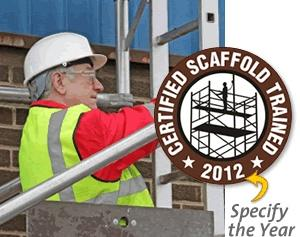helmet: (23, 33, 107, 84)
